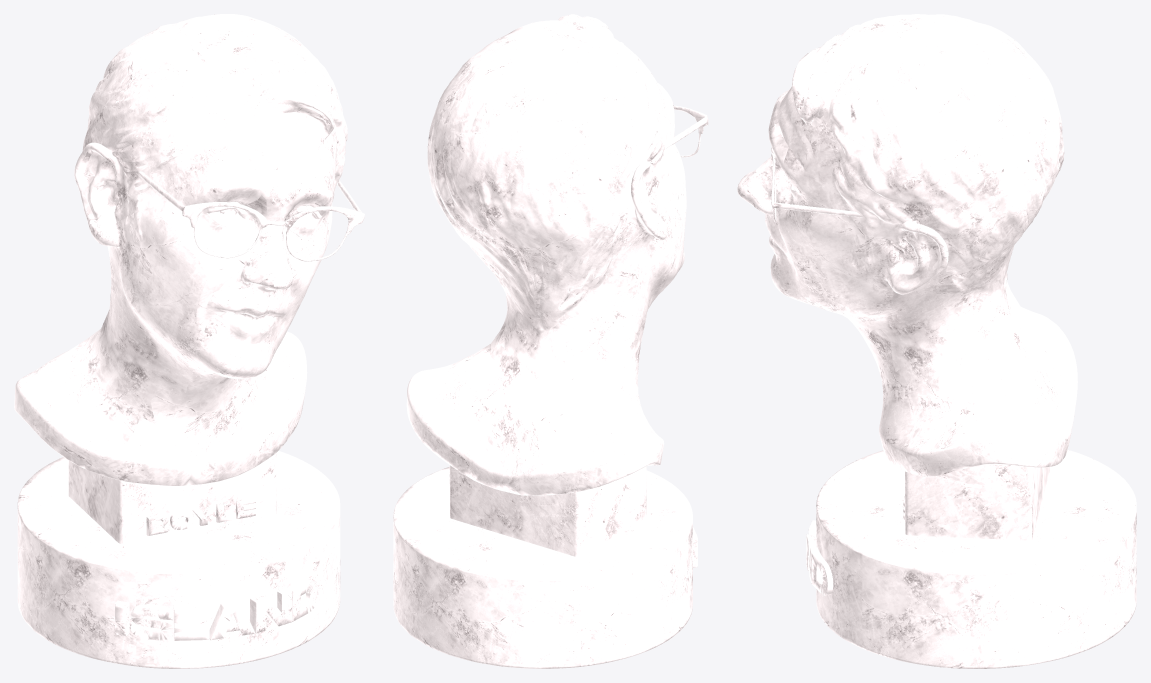
3 views of the same model, side by side, from view 1: azimuth 30°, elevation 25°; view 2: azimuth 150°, elevation 25°; view 3: azimuth 270°, elevation 25° (orthographic). The views are drawn at different scales.
Parts seen in each view (by area): view 1: Chris; view 2: Chris; view 3: Chris.
Part boxes in pixels (left/top/right/bottom): Chris: left=14, top=14, right=364, bottom=668; Chris: left=393, top=14, right=708, bottom=668; Chris: left=737, top=14, right=1136, bottom=668.
Bounding box in the file's own units: 3.18 × 6.4 × 3.97.
Materials: 1 (1 with a texture image).
